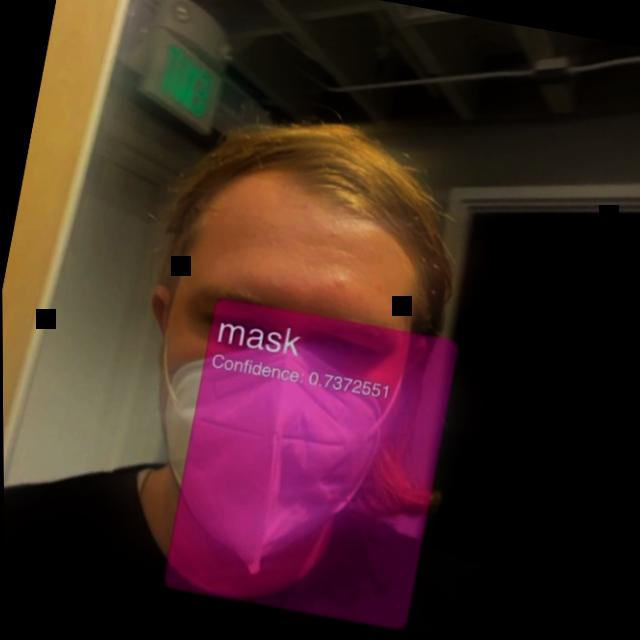Mask: (90, 86, 508, 635)
